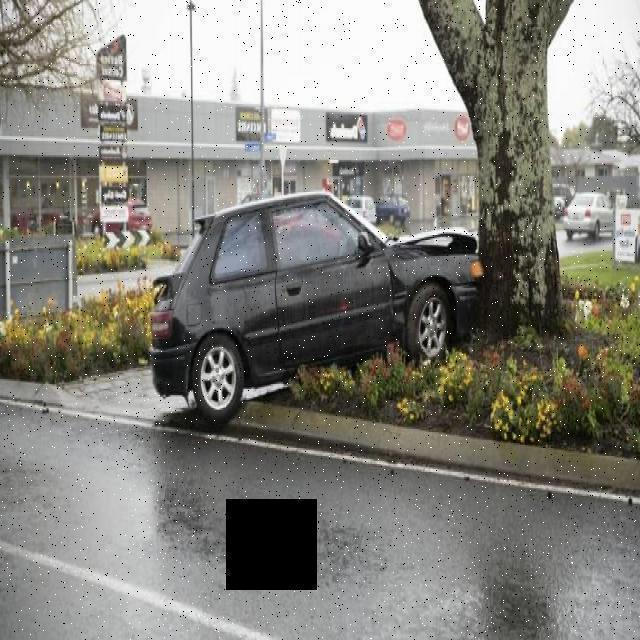accident: (144, 166, 501, 432)
